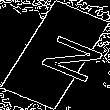N_NW: (16, 26, 94, 84)
